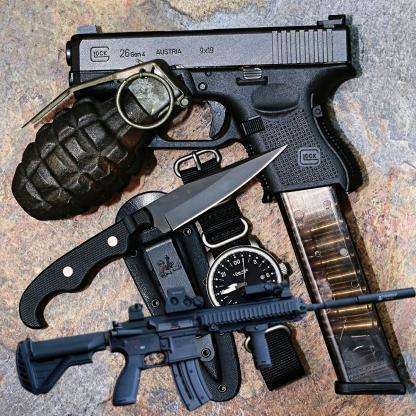Grenade: (9, 56, 191, 223)
Gun: (16, 281, 416, 410)
Knife: (19, 144, 292, 330)
Pistol: (63, 12, 406, 396)
